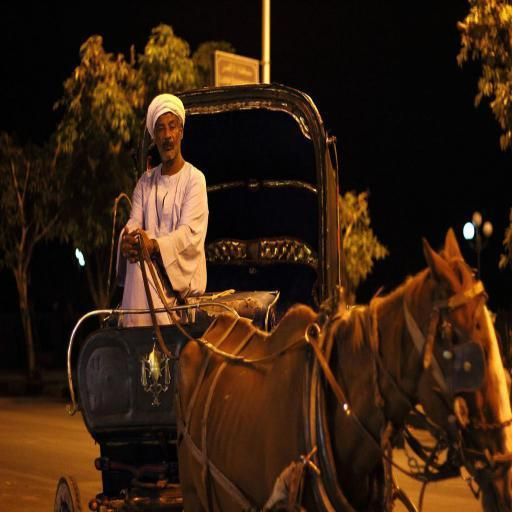horse: (174, 226, 512, 512)
